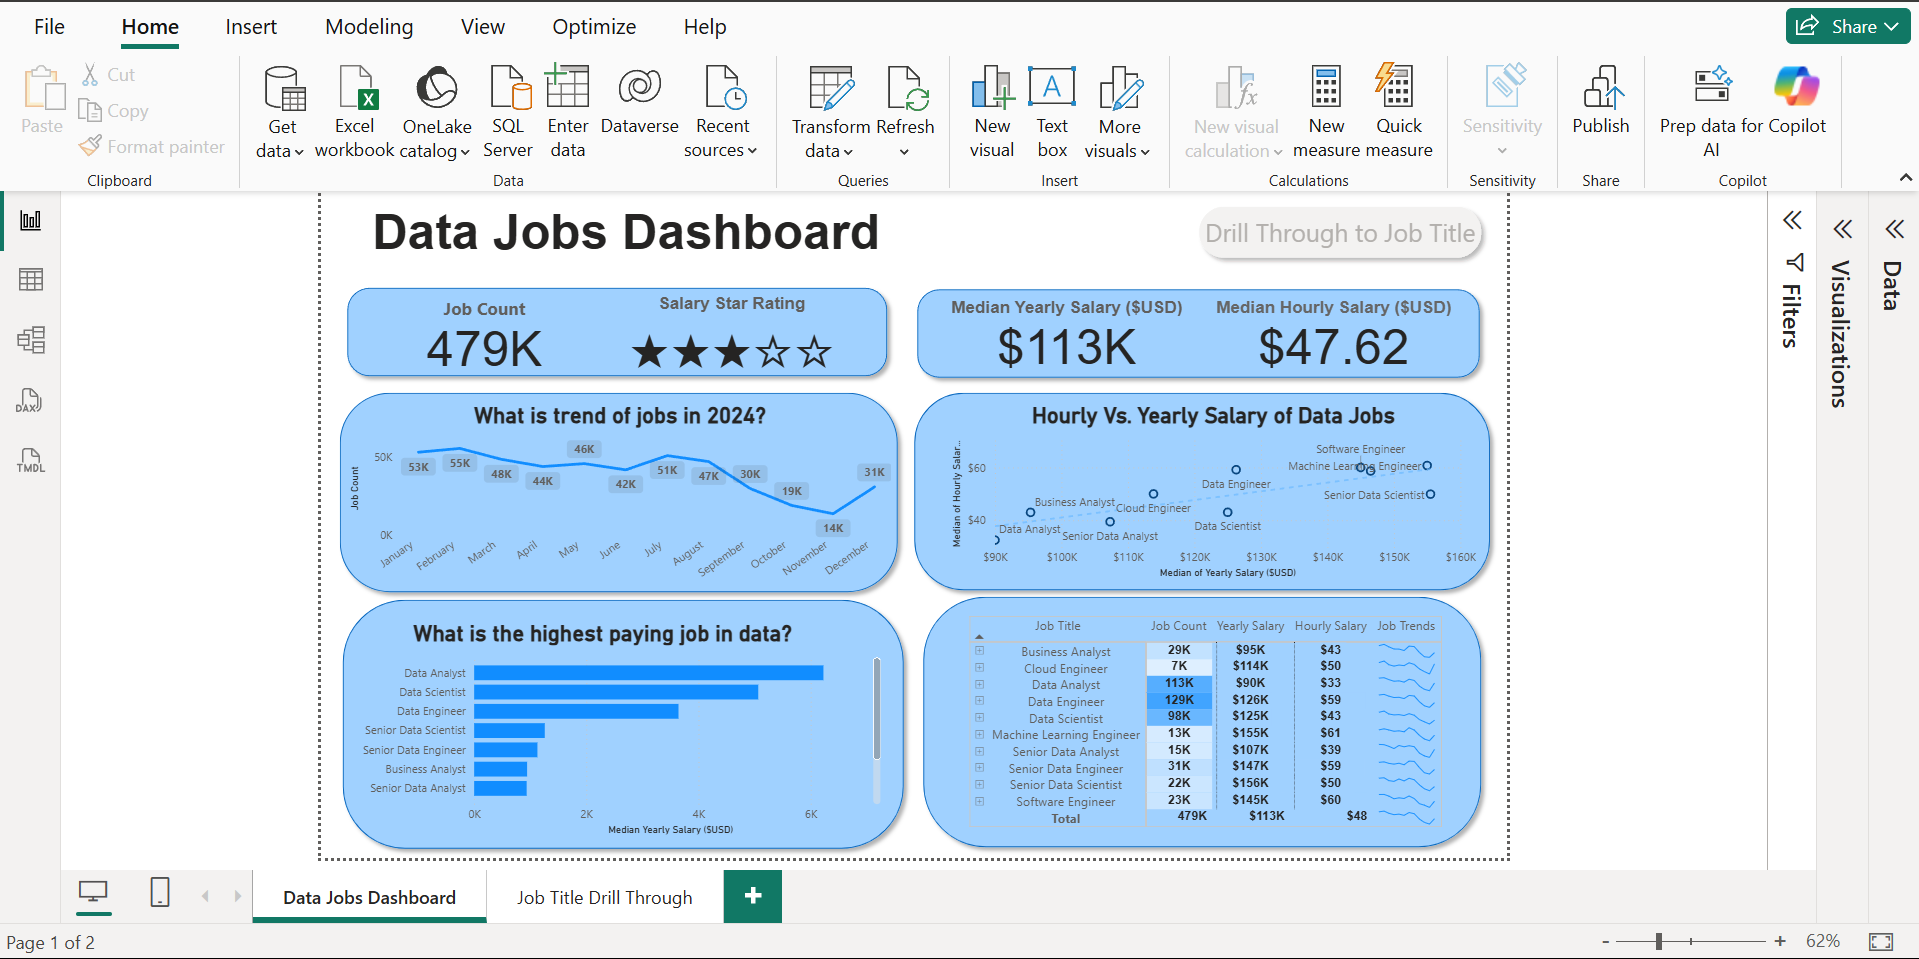

The dashboard page shown, as its layout file describes it:
{"tool":"powerbi","page":{"name":"Data Jobs Dashboard","canvas":[1280,720],"ordinal":0},"visuals":[{"type":"group","id":"g1","title":"Background","box":[11.4,95.6,1258.8,623.5],"z":0},{"type":"shape","box":[18.9,95.6,600.7,113.3],"z":0,"group":"g1"},{"type":"textbox","box":[50.2,8.1,570,72.9],"z":1000},{"type":"shape","box":[634.2,97.8,625,113.3],"z":1000,"group":"g1"},{"type":"cardVisual","fields":{"Data":["CountNonNull(job_postings_flat.job_title_short)"]},"box":[19.4,103.6,314.1,108.5],"z":2000},{"type":"shape","box":[11.4,209.1,620.2,233.2],"z":2000,"group":"g1"},{"type":"cardVisual","fields":{"Data":["job_postings_flat.Salary Star Rating"]},"box":[280.1,95.5,327.1,124.7],"z":3000},{"type":"shape","box":[630.8,208.5,639.4,231.1],"z":3000,"group":"g1"},{"type":"cardVisual","fields":{"Data":["Median(job_postings_flat.salary_year_avg)"]},"box":[641.2,92.3,328.7,131.2],"z":4000},{"type":"shape","box":[14.6,432.5,623.4,286.6],"z":4000,"group":"g1"},{"type":"cardVisual","fields":{"Data":["Median(job_postings_flat.salary_hour_avg)"]},"box":[935.9,92.3,315.7,131.2],"z":5000},{"type":"shape","box":[640.7,429.3,620.2,288.2],"z":5000,"group":"g1"},{"type":"lineChart","title":"What is trend of jobs in 2024?","fields":{"Category":["job_postings_flat.job_posted_date.Variation.Date Hierarchy.Year","job_postings_flat.job_posted_date.Variation.Date Hierarchy.Quarter","job_postings_flat.job_posted_date.Variation.Date Hierarchy.Month","job_postings_flat.job_posted_date.Variation.Date Hierarchy.Day"],"Y":["CountNonNull(job_postings_flat.job_title_short)"]},"box":[25.9,228.3,594.3,204],"z":6000},{"type":"barChart","title":"What is the highest paying job in data?","fields":{"Category":["job_postings_flat.job_title_short"],"Y":["CountNonNull(job_postings_flat.salary_year_avg)"]},"box":[0,463.1,608.8,236.4],"z":7000},{"type":"scatterChart","title":"Hourly Vs. Yearly Salary of Data Jobs","fields":{"X":["Median(job_postings_flat.salary_year_avg)"],"Y":["Median(job_postings_flat.salary_hour_avg)"],"Series":["job_postings_flat.job_title_short"]},"box":[675.2,228.3,576.4,194.3],"z":8000},{"type":"pivotTable","fields":{"Rows":["job_postings_flat.job_title_short","job_postings_flat.job_posted_date.Variation.Date Hierarchy.Quarter"],"Values":["CountNonNull(job_postings_flat.job_title_short)","Median(job_postings_flat.salary_year_avg)","Median(job_postings_flat.salary_hour_avg)","SparklineData(CountNonNull(job_postings_flat.job_title_short)_[job_postings_flat.job_posted_date.Variation.Date Hierarch"]},"box":[694.6,453.4,566.7,239.6],"z":9000},{"type":"actionButton","title":"Drill Through to Job Title","box":[939.2,8.1,322.2,72.9],"z":10000}]}

Visuals, with their boxes on the page's 1280x720 design canvas (x1, y1, x2, y2). These are canvas units, not pixel positions in the 1919x959 screenshot, which may show the page scaled, cropped or inside an application window:
"Background" group: 11,96,1270,719
shape: 19,96,620,209
textbox: 50,8,620,81
shape: 634,98,1259,211
cardVisual - CountNonNull(job_postings_flat.job_title_short): 19,104,334,212
shape: 11,209,632,442
cardVisual - job_postings_flat.Salary Star Rating: 280,96,607,220
shape: 631,208,1270,440
cardVisual - Median(job_postings_flat.salary_year_avg): 641,92,970,224
shape: 15,432,638,719
cardVisual - Median(job_postings_flat.salary_hour_avg): 936,92,1252,224
shape: 641,429,1261,718
"What is trend of jobs in 2024?" lineChart: 26,228,620,432
"What is the highest paying job in data?" barChart: 0,463,609,700
"Hourly Vs. Yearly Salary of Data Jobs" scatterChart: 675,228,1252,423
pivotTable - job_postings_flat.job_title_short x job_postings_flat.job_posted_date.Variation.Date Hierarchy.Quarter: 695,453,1261,693
"Drill Through to Job Title" actionButton: 939,8,1261,81
